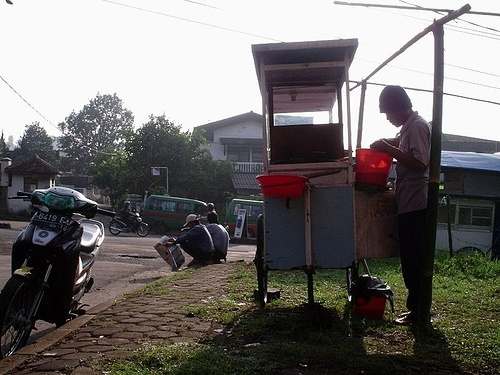gerobak: (252, 40, 398, 305)
